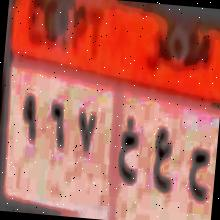6: (43, 96, 70, 157)
7: (73, 107, 98, 164)
7aa: (184, 138, 212, 214)
9: (18, 91, 40, 144)
ain: (148, 120, 178, 199)
khaa: (114, 108, 143, 194)
